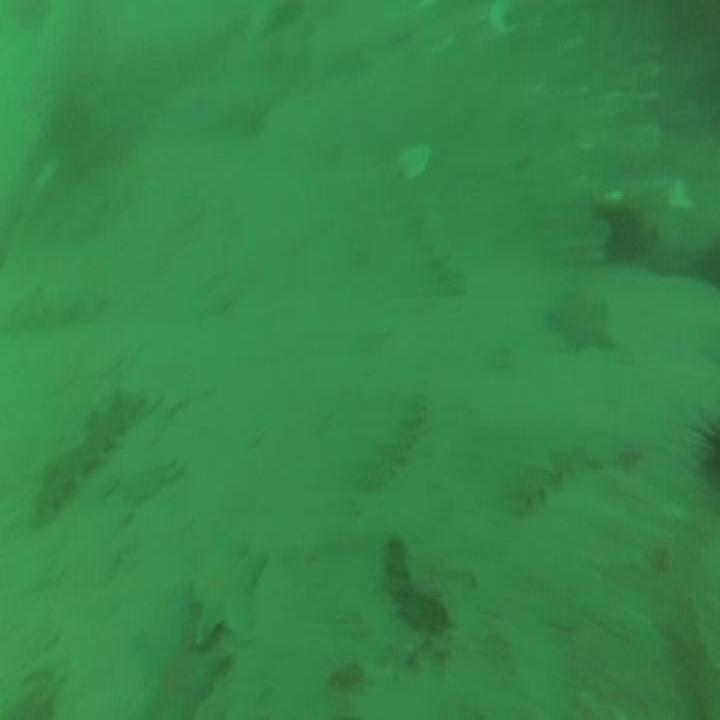holothurian: (30, 388, 141, 512), (357, 391, 430, 491), (503, 442, 601, 516)
scallop: (396, 142, 433, 182)
starfish: (137, 638, 232, 720), (189, 550, 269, 644), (545, 290, 613, 357)
